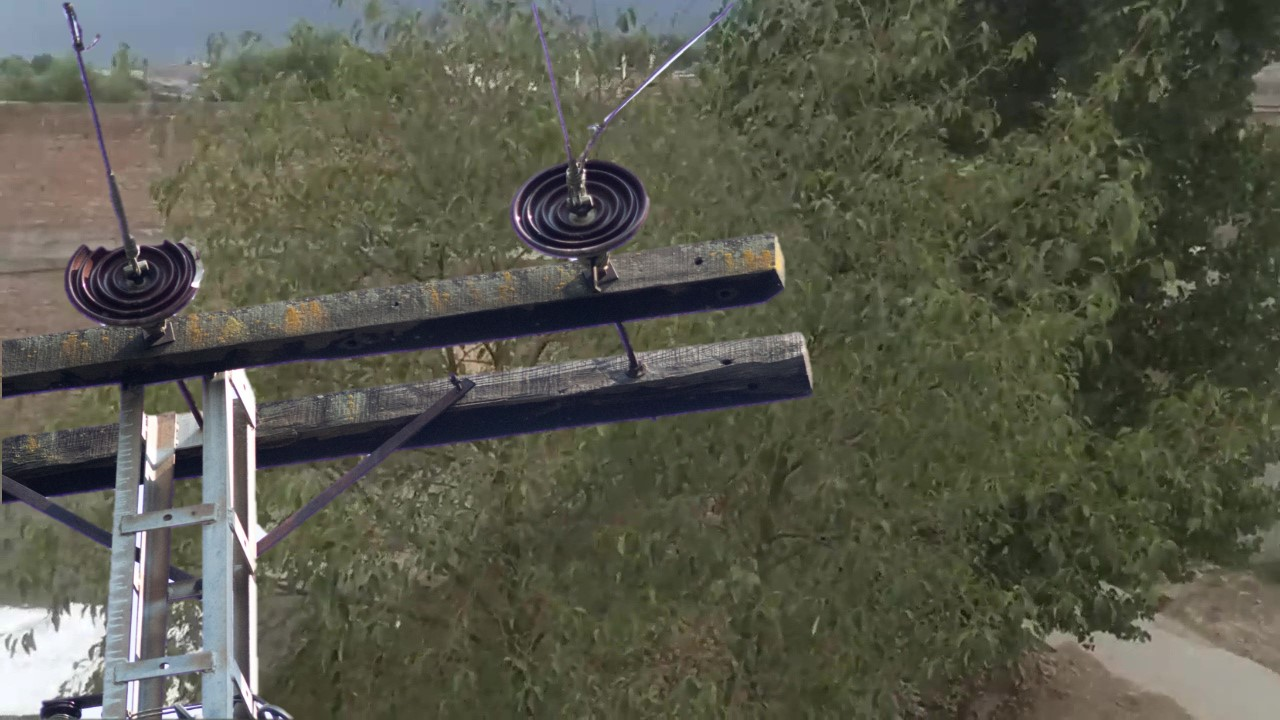defect_disc: (61, 237, 207, 323)
insulator_disc: (509, 157, 653, 255)
